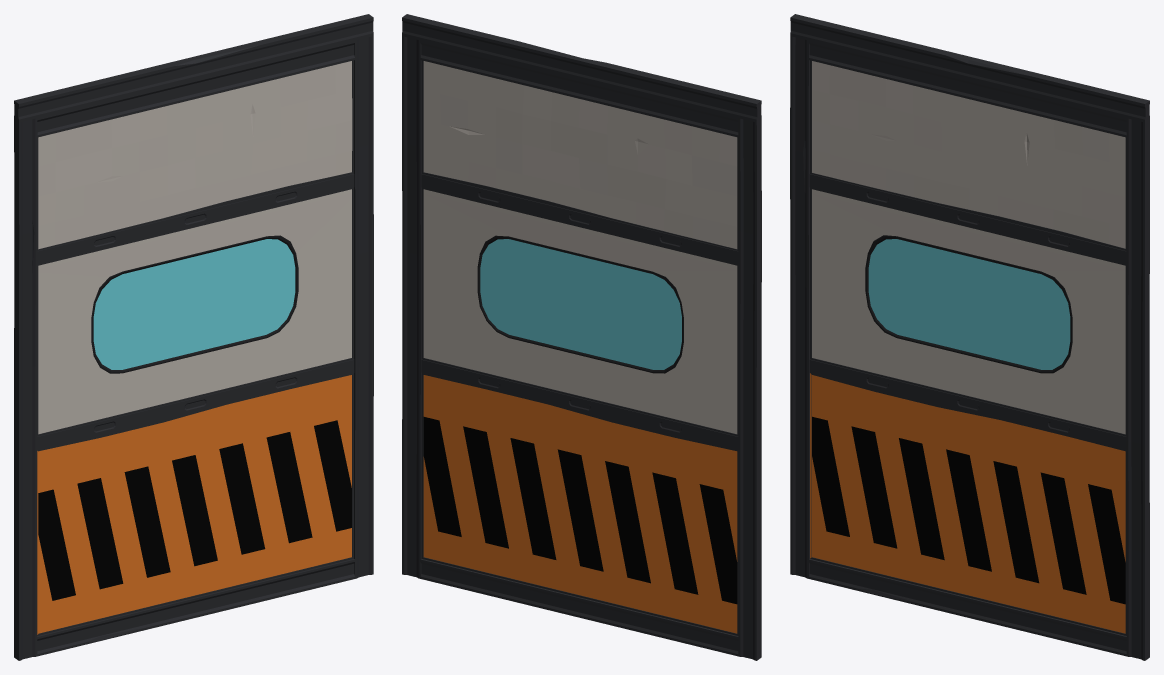
Rendered from SM_Wall_01.gltf.
The picture shows the model from 3 angles, left to right: view 1: azimuth 30°, elevation 25°; view 2: azimuth 150°, elevation 25°; view 3: azimuth 330°, elevation 25°; orthographic projection.
Visible parts, largest first — view 1: SM_Wall_01; view 2: SM_Wall_01; view 3: SM_Wall_01.
Boxes of the visible parts, x1,y1,x2,y2 form: SM_Wall_01: (14, 14, 373, 660); SM_Wall_01: (402, 14, 761, 660); SM_Wall_01: (790, 14, 1149, 660).
Size of the model in its own units: 2 by 3 by 0.05.
